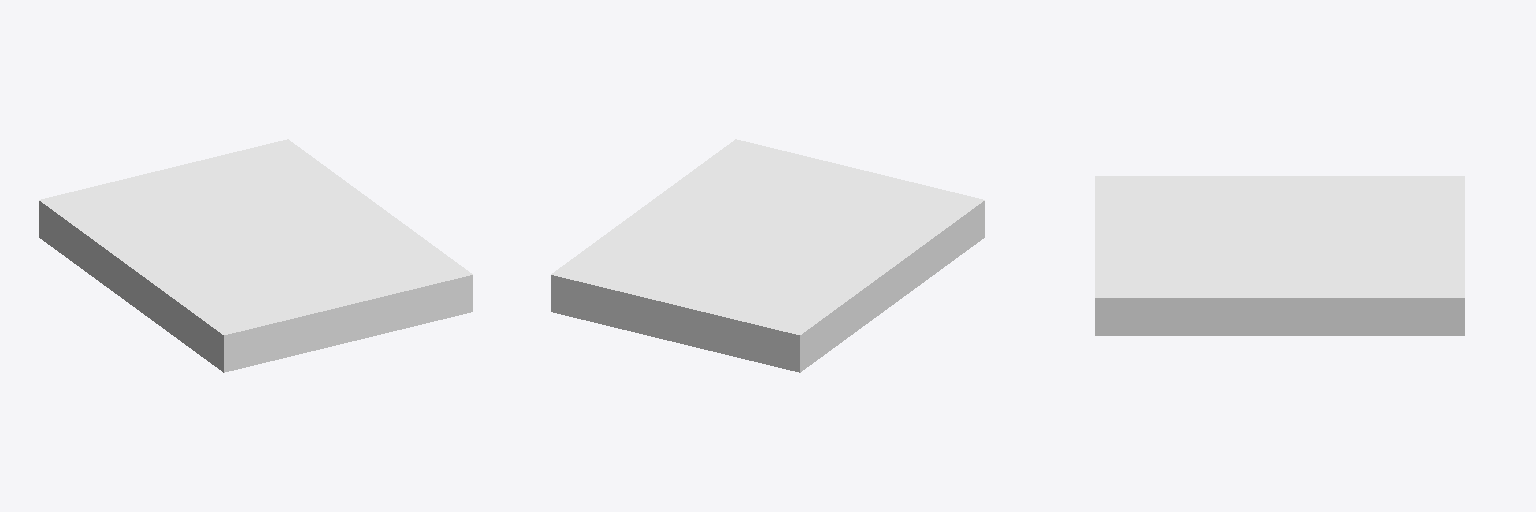
Rendered from playButton.obj.
The picture shows the model from 3 angles: view 1: azimuth 30°, elevation 25°; view 2: azimuth 150°, elevation 25°; view 3: azimuth 270°, elevation 25°; orthographic projection.
Parts seen in each view (by area): view 1: object 1; view 2: object 1; view 3: object 1.
Part boxes in pixels (left/top/right/bottom): object 1: left=39, top=139, right=472, bottom=372; object 1: left=551, top=139, right=984, bottom=372; object 1: left=1095, top=176, right=1464, bottom=335.
Bounding box in the file's own units: 0.7 × 0.1 × 0.9.